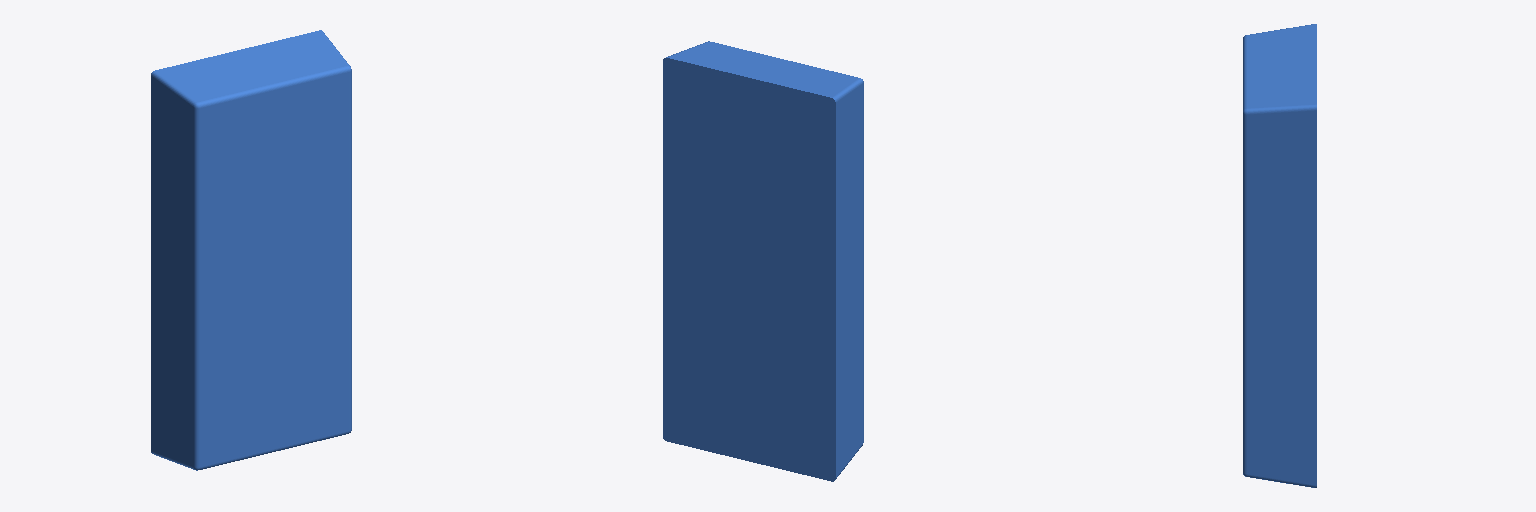
File: A-316-2_Blender.obj
3 renders of one model, left to right at view 1: azimuth 30°, elevation 25°; view 2: azimuth 150°, elevation 25°; view 3: azimuth 270°, elevation 25°, orthographic.
Parts seen in each view (by area): view 1: Rectangle001; view 2: Rectangle001; view 3: Rectangle001.
Part boxes in pixels (x1,y1,x2,y2): Rectangle001: (151,30,351,470); Rectangle001: (663,41,863,481); Rectangle001: (1243,24,1316,487).
Bounding box in the file's own units: 4 × 8.5 × 1.5.